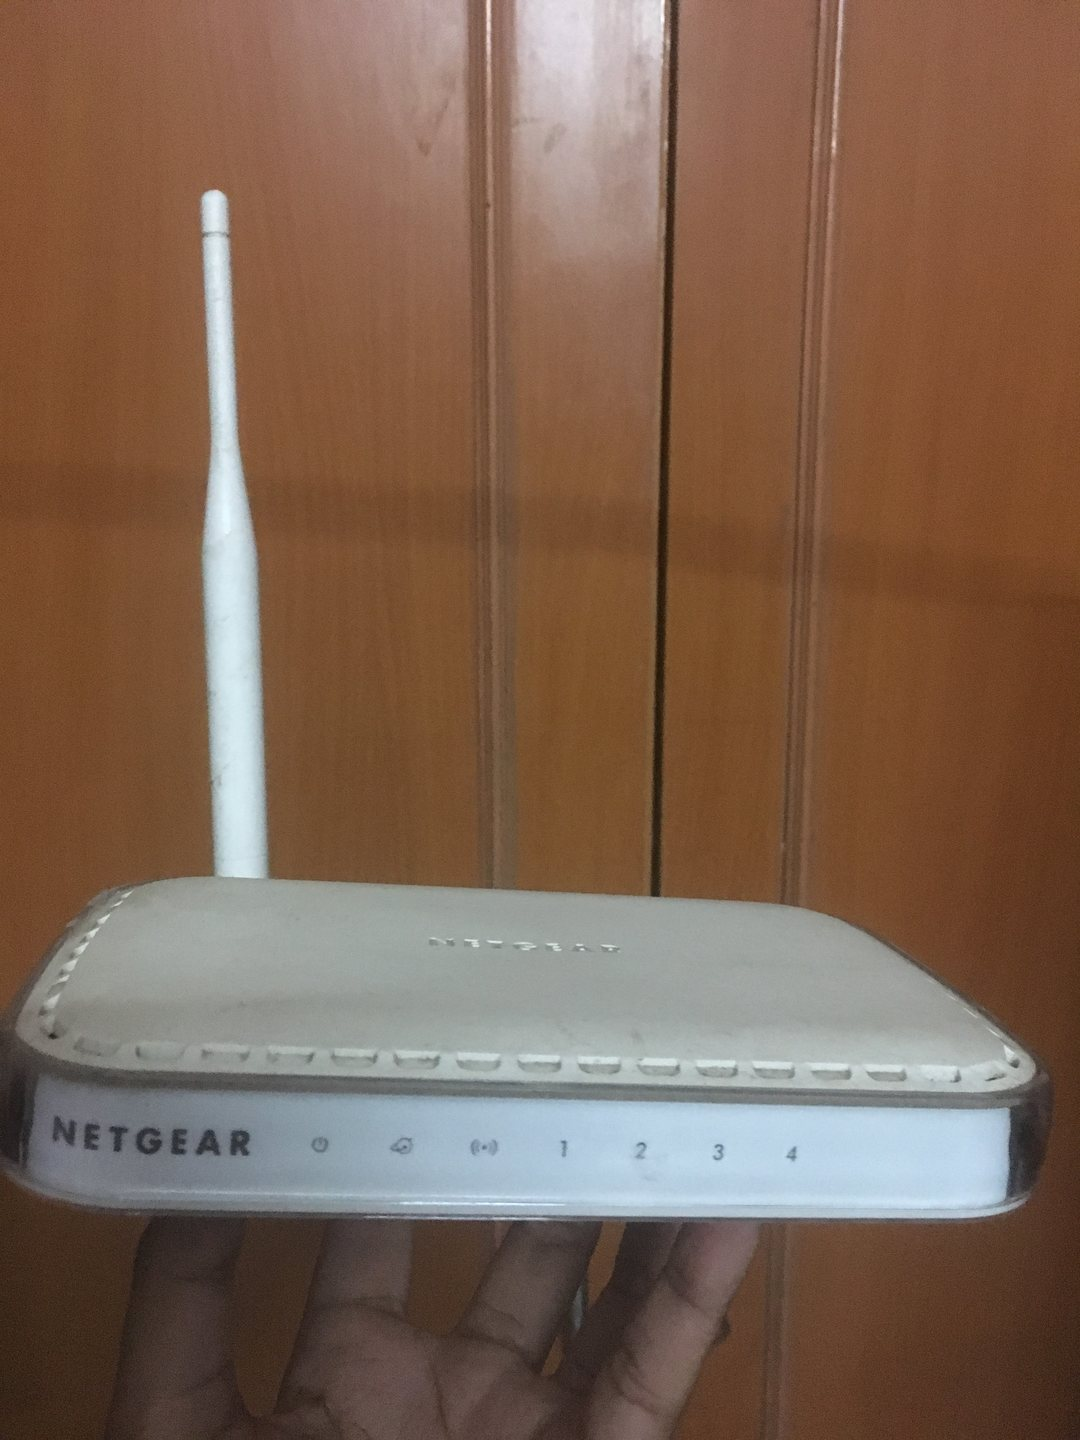NETGEAR: (44, 1107, 255, 1172)
modem: (8, 1037, 1060, 1223)
